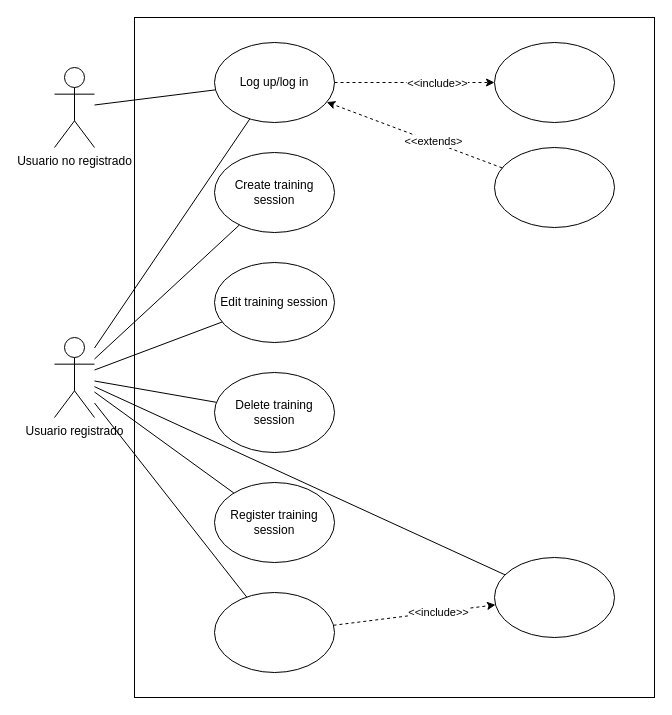
The diagram is 672 pixels wide and 715 high, and some of its shapes have lost their labels. The shapes that lost their labels are listed below. From the top down, each one's centre as x and y in pixels, then its label:
At pixel 554 82: "Verify credentials".
At pixel 554 187: "Show error message".
At pixel 554 597: "Show training session".
At pixel 274 632: "Show training history".
